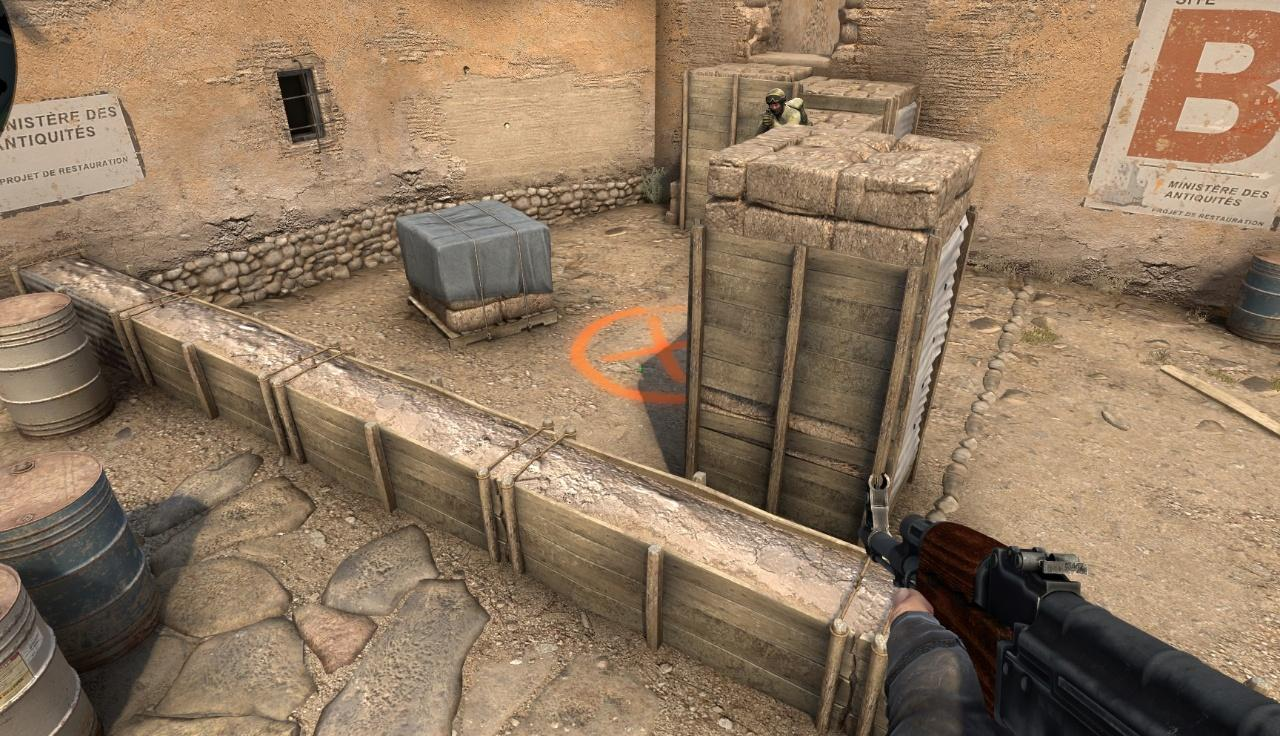ct: (764, 88, 805, 125)
cthead: (767, 89, 785, 115)
rifle: (865, 474, 1280, 736)
